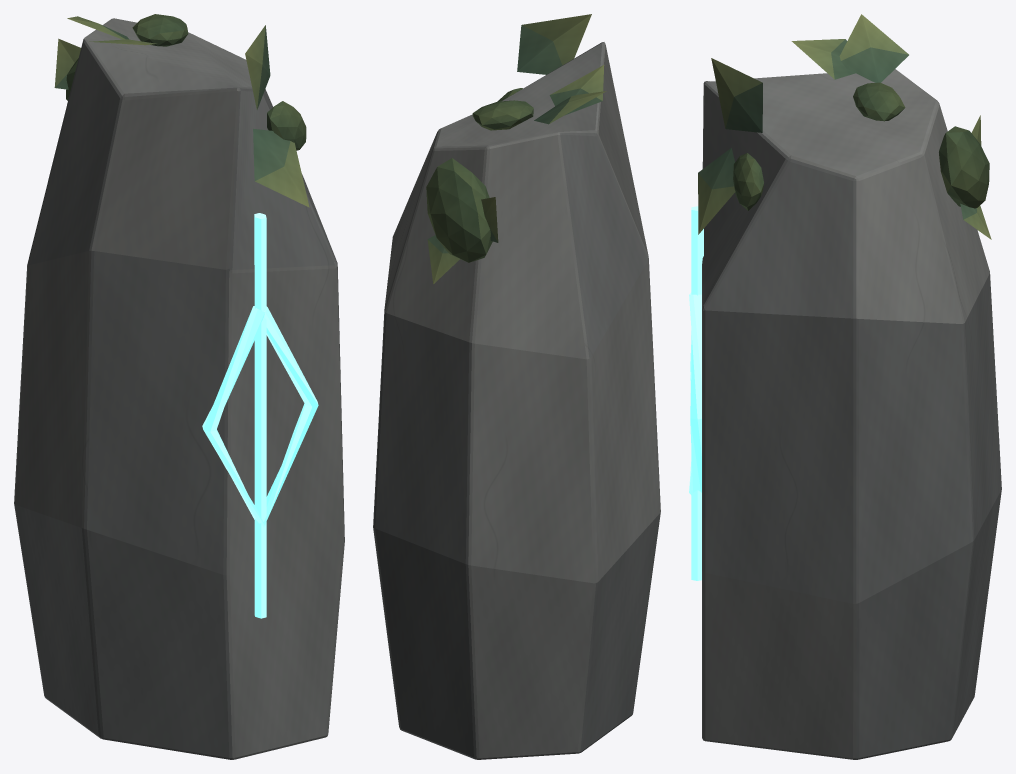
Rendered from forest_rune_monolith.glb.
3 views of the same model, side by side, from view 1: azimuth 30°, elevation 25°; view 2: azimuth 150°, elevation 25°; view 3: azimuth 270°, elevation 25° (orthographic). The views are drawn at different scales.
Visible parts, largest first — view 1: Weathered shrine monolith, Glowing diamond rune, Rune vertical stroke, Woodland shared curved ivy leaf.103, Woodland shared moss cushion.038, Woodland shared moss cushion.036, Woodland shared curved ivy leaf.104, Woodland shared curved ivy leaf.105; view 2: Weathered shrine monolith, Woodland shared moss cushion.037, Woodland shared curved ivy leaf.104, Woodland shared moss cushion.038, Woodland shared curved ivy leaf.107, Woodland shared curved ivy leaf.106, Woodland shared curved ivy leaf.108, Woodland shared curved ivy leaf.105; view 3: Weathered shrine monolith, Woodland shared moss cushion.037, Woodland shared curved ivy leaf.108, Woodland shared curved ivy leaf.104, Glowing diamond rune, Woodland shared curved ivy leaf.103, Rune vertical stroke, Woodland shared moss cushion.038, Woodland shared moss cushion.036, Woodland shared curved ivy leaf.107, Woodland shared curved ivy leaf.106.
Part boxes in pixels (box(x1,y1,x2,y2)): Weathered shrine monolith: box(14, 18, 344, 759); Glowing diamond rune: box(202, 306, 318, 527); Rune vertical stroke: box(254, 213, 266, 618); Woodland shared curved ivy leaf.103: box(253, 128, 309, 207); Woodland shared moss cushion.038: box(132, 14, 188, 46); Woodland shared moss cushion.036: box(267, 101, 306, 150); Woodland shared curved ivy leaf.104: box(245, 25, 270, 109); Woodland shared curved ivy leaf.105: box(54, 38, 80, 89); Weathered shrine monolith: box(373, 42, 660, 759); Woodland shared moss cushion.037: box(426, 158, 492, 262); Woodland shared curved ivy leaf.104: box(517, 14, 591, 74); Woodland shared moss cushion.038: box(472, 100, 533, 130); Woodland shared curved ivy leaf.107: box(549, 65, 604, 115); Woodland shared curved ivy leaf.106: box(427, 235, 459, 283); Woodland shared curved ivy leaf.108: box(534, 91, 606, 124); Woodland shared curved ivy leaf.105: box(481, 197, 498, 242); Weathered shrine monolith: box(702, 69, 1001, 759); Woodland shared moss cushion.037: box(939, 126, 989, 208); Woodland shared curved ivy leaf.108: box(839, 14, 908, 82); Woodland shared curved ivy leaf.104: box(711, 58, 762, 132); Glowing diamond rune: box(689, 292, 701, 494); Woodland shared curved ivy leaf.103: box(698, 148, 735, 234); Rune vertical stroke: box(691, 206, 703, 580); Woodland shared moss cushion.038: box(853, 82, 905, 121); Woodland shared moss cushion.036: box(733, 153, 763, 210); Woodland shared curved ivy leaf.107: box(791, 39, 855, 79); Woodland shared curved ivy leaf.106: box(960, 203, 991, 239).
Size of the model in its own units: 0.7015 by 1.76 by 0.7709.
6 materials, 5 textured.
